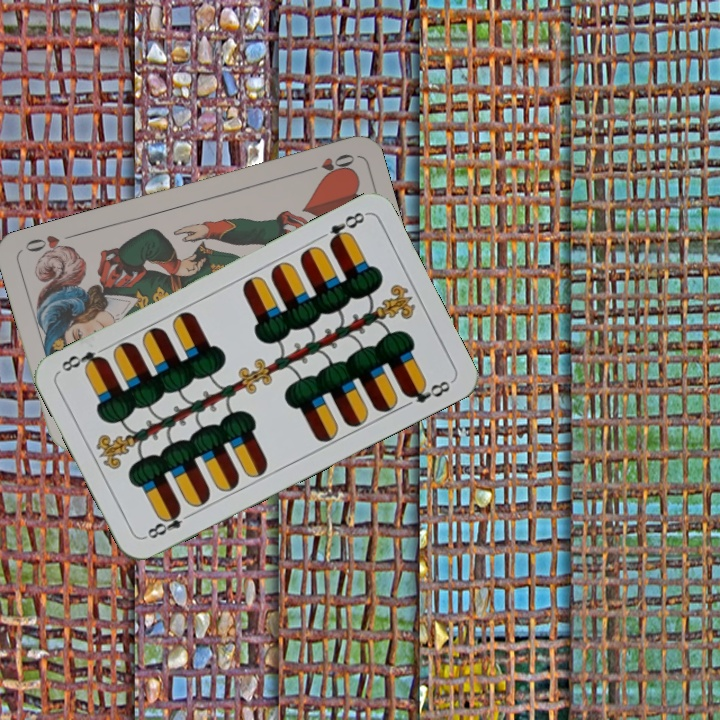E8: (141, 504, 196, 542), (325, 208, 369, 249)
HO: (299, 149, 358, 178)
